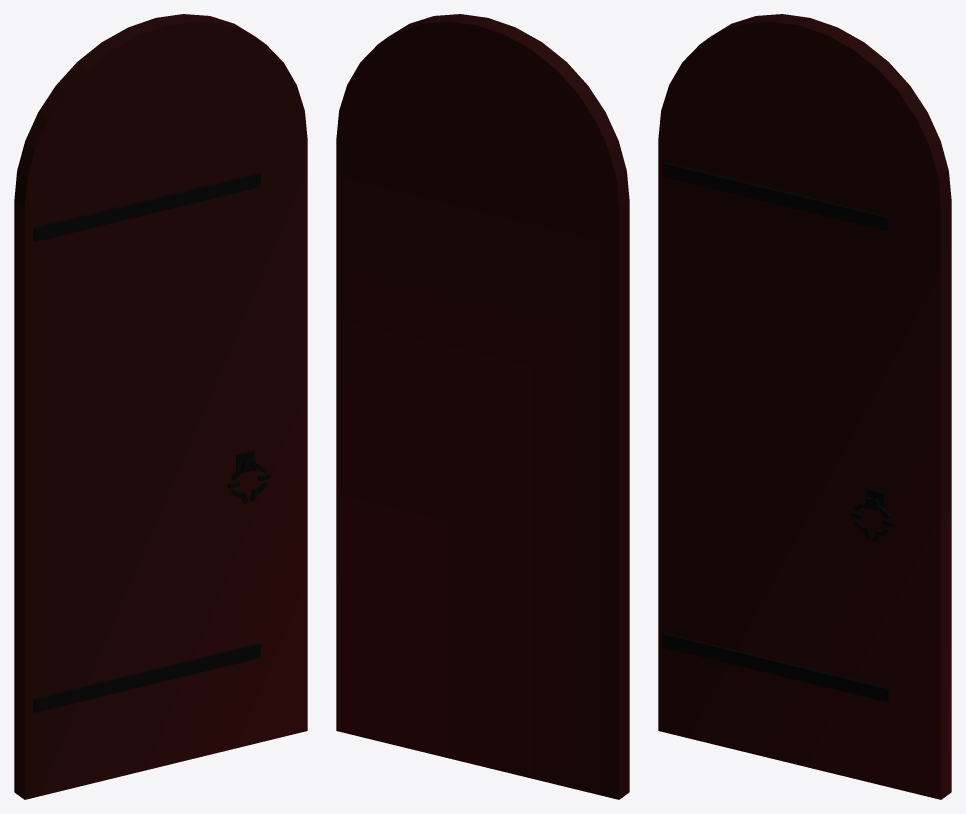
The model's file is SilverbrookBlacksmith_Door1.fbx.
3 views of the same model, side by side, from view 1: azimuth 30°, elevation 25°; view 2: azimuth 150°, elevation 25°; view 3: azimuth 330°, elevation 25° (orthographic).
Visible parts, largest first — view 1: SM_SBBlacksmith_Details_Door1_Part; view 2: SM_SBBlacksmith_Details_Door1_Part; view 3: SM_SBBlacksmith_Details_Door1_Part.
Part boxes in pixels (left/top/right/bottom): SM_SBBlacksmith_Details_Door1_Part: left=14, top=14, right=307, bottom=799; SM_SBBlacksmith_Details_Door1_Part: left=336, top=14, right=629, bottom=799; SM_SBBlacksmith_Details_Door1_Part: left=658, top=14, right=951, bottom=799.
Bounding box in the file's own units: 110 × 275 × 11.2.
